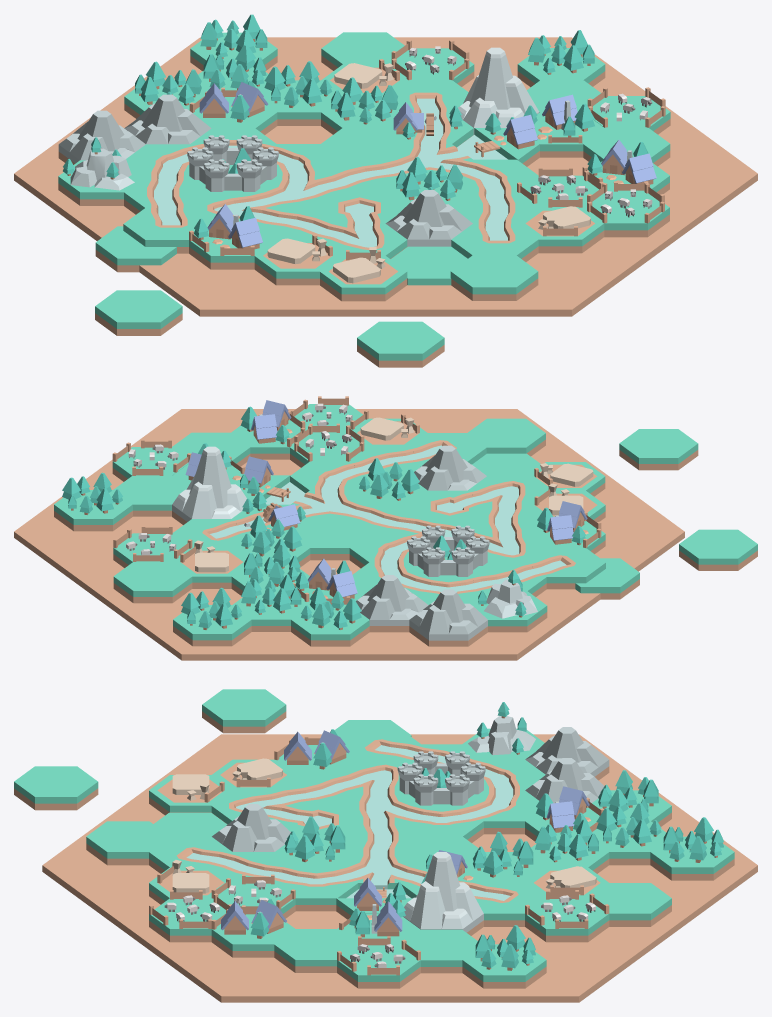
Rendered from River Flow Puzzle (complete) 1.fbx.
The picture shows the model from 3 angles, top to bottom: view 1: azimuth 30°, elevation 25°; view 2: azimuth 150°, elevation 25°; view 3: azimuth 270°, elevation 25°; orthographic projection. The views are drawn at different scales.
Visible parts, largest first — view 1: dirt.001, building_castle.001, building_village.001, stone_mountain.001, building_farm.004, grass_hill.001, grass.001, building_sheep.004, grass.005, grass.003, grass_forest.004, grass_forest.003 (+41 smaller); view 2: dirt.001, building_castle.001, stone_mountain.001, grass_forest.003, grass_forest.007, grass_forest.006, stone_hill.003, grass_hill.001, building_village.002, grass.001, grass.010, grass.003 (+41 smaller); view 3: dirt.001, stone_mountain.001, building_castle.001, grass_forest.003, grass_forest.007, building_sheep.003, building_sheep.001, building_village.002, grass.001, grass.003, grass_forest.005, building_sheep.004 (+41 smaller).
Part boxes in pixels (box(x1,y1,x2,y2)): dirt.001: box(14, 37, 757, 316); building_castle.001: box(187, 135, 278, 191); building_village.001: box(189, 204, 275, 269); stone_mountain.001: box(458, 47, 539, 134); building_farm.004: box(320, 247, 407, 301); grass_hill.001: box(58, 137, 145, 205); grass.001: box(357, 321, 444, 367); building_sheep.004: box(582, 183, 669, 237); grass.005: box(450, 255, 538, 300); grass.003: box(95, 290, 182, 335); grass_forest.004: box(261, 61, 342, 125); grass_forest.003: box(517, 30, 605, 87); dirt.001: box(14, 409, 684, 660); building_castle.001: box(407, 525, 489, 576); stone_mountain.001: box(172, 446, 246, 524); grass_forest.003: box(54, 472, 132, 531); grass_forest.007: box(173, 587, 251, 646); grass_forest.006: box(291, 587, 369, 646); stone_hill.003: box(409, 589, 487, 646); grass_hill.001: box(470, 569, 547, 632); building_village.002: box(231, 400, 305, 459); grass.001: box(619, 429, 698, 470); grass.010: box(113, 562, 192, 603); grass.003: box(679, 529, 757, 570); dirt.001: box(42, 734, 757, 1002); stone_mountain.001: box(403, 852, 483, 935); building_castle.001: box(397, 751, 485, 805); grass_forest.003: box(462, 925, 546, 988); grass_forest.007: box(650, 817, 734, 880); building_sheep.003: box(525, 890, 609, 942); building_sheep.001: box(337, 936, 420, 988); building_village.002: box(211, 898, 295, 957); grass.001: box(14, 766, 98, 810); grass.003: box(202, 689, 286, 733); grass_forest.005: box(593, 802, 666, 865); building_sheep.004: box(149, 890, 231, 942).
Size of the model in its own units: 975 by 119 by 1020.
